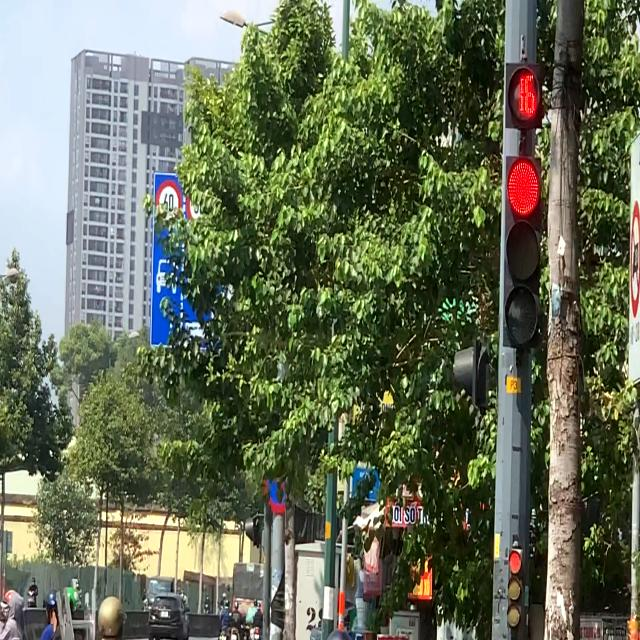P.127: (155, 180, 182, 227)
